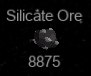Silicate: (6, 9, 83, 68)
